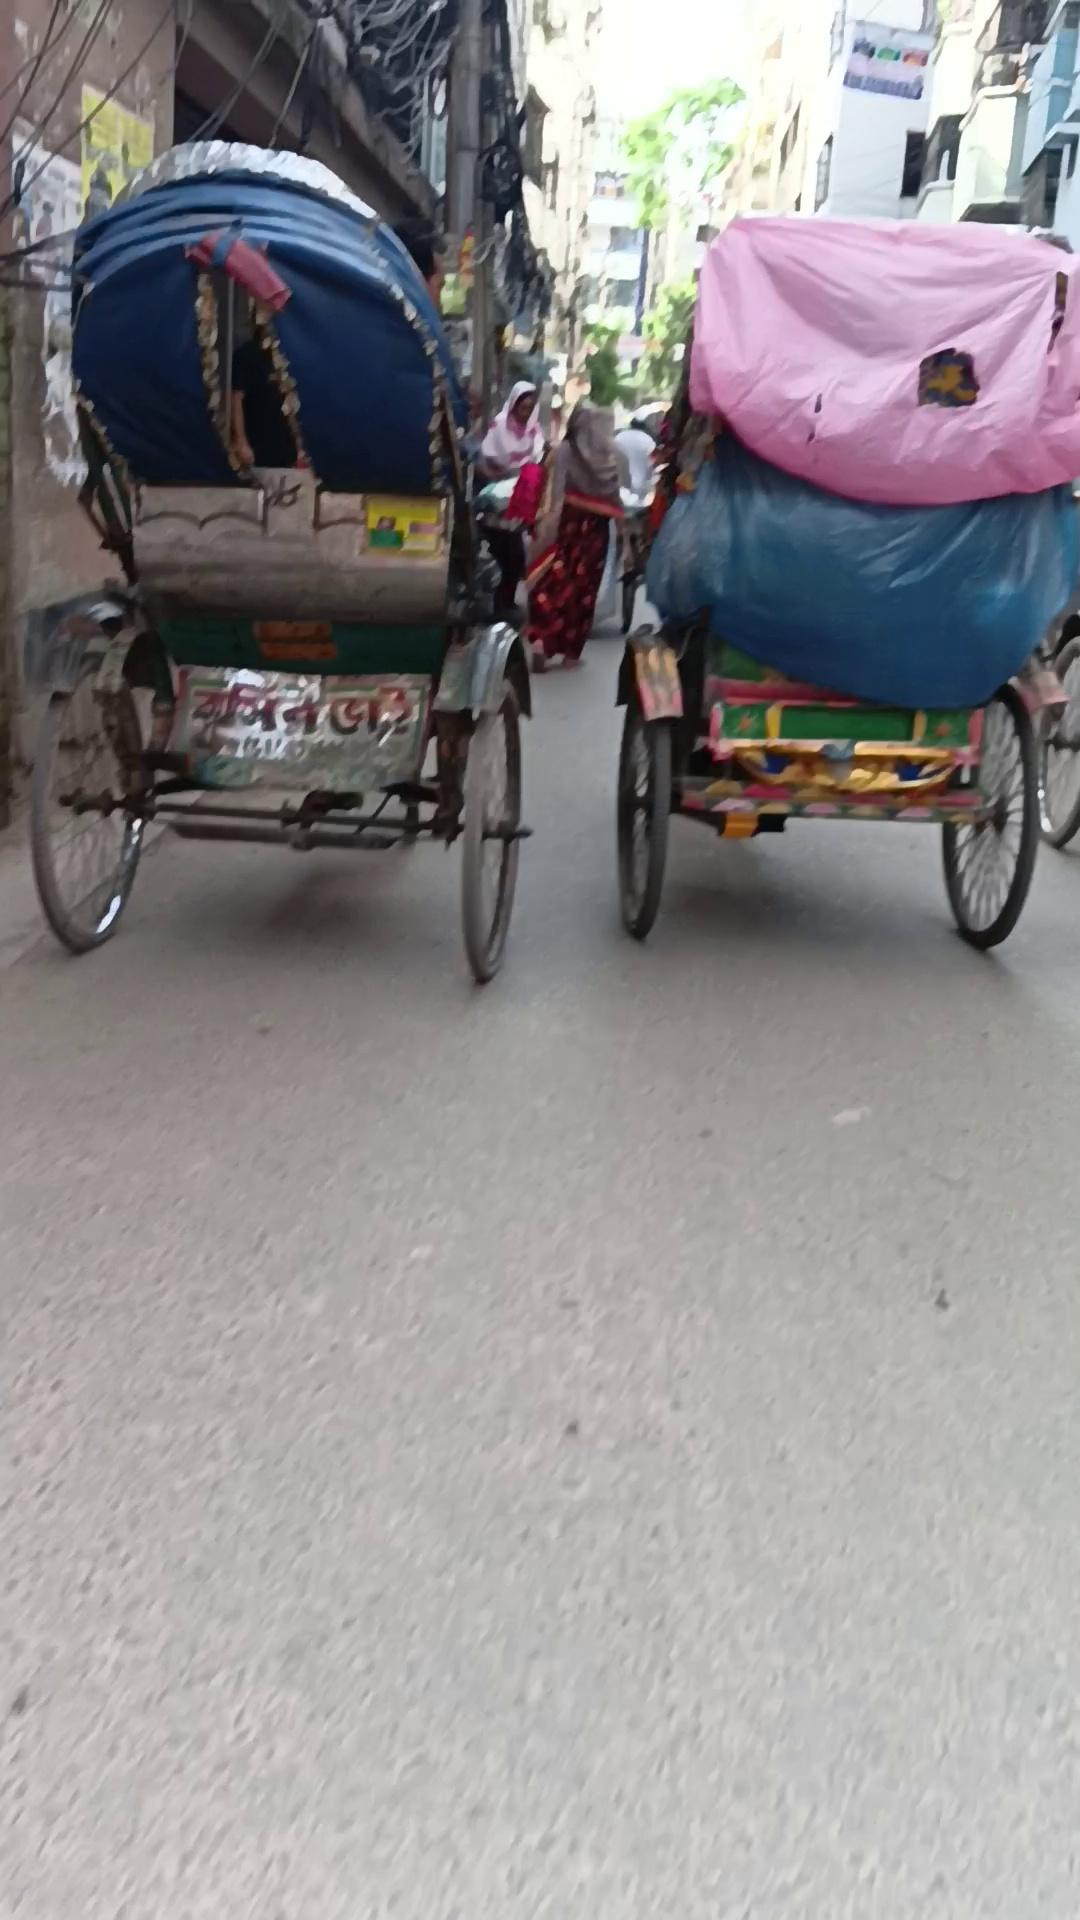Muddy road: (524, 402, 627, 671)
Pothole: (24, 139, 536, 986), (611, 211, 1077, 951)
